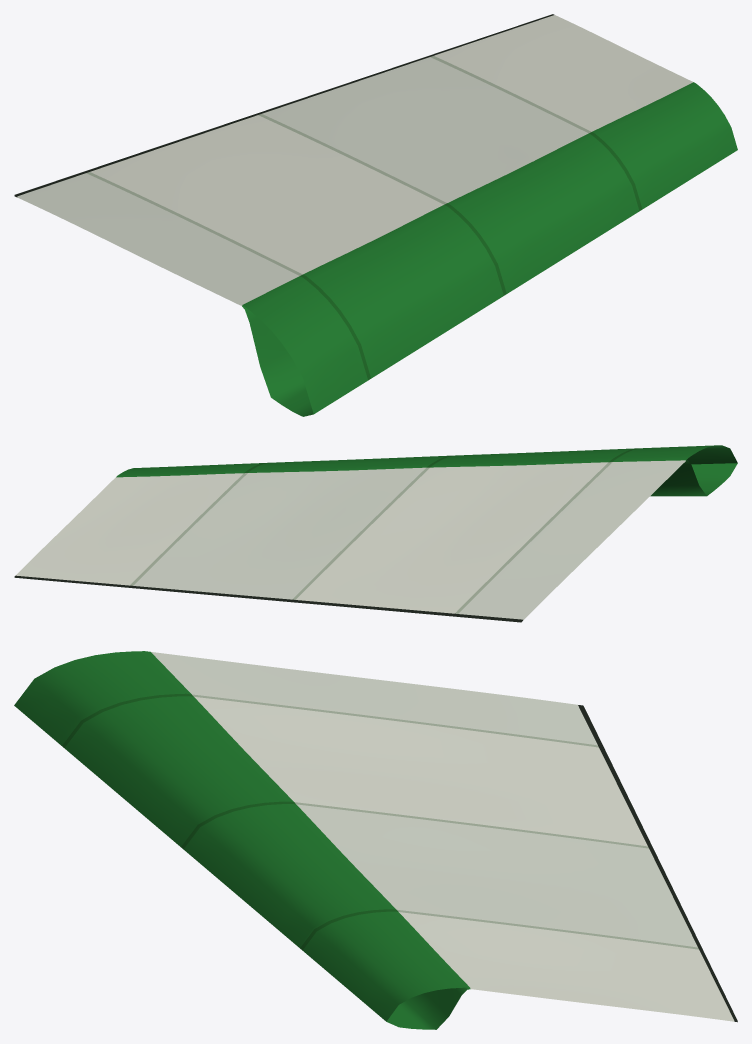
The model's file is wing_tip_left_2_sail.dae.
3 renders of one model, top to bottom at view 1: azimuth 30°, elevation 25°; view 2: azimuth 150°, elevation 25°; view 3: azimuth 270°, elevation 25°, orthographic. The views are drawn at different scales.
Parts seen in each view (by area): view 1: wing; view 2: wing; view 3: wing.
Part boxes in pixels (x1,y1,x2,y2): wing: (14,14,737,416); wing: (14,445,737,622); wing: (14,651,737,1029).
Size of the model in its own units: 1.72 by 1.83 by 0.2545.
